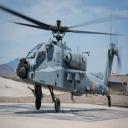helicopter: (15, 6, 126, 117)
